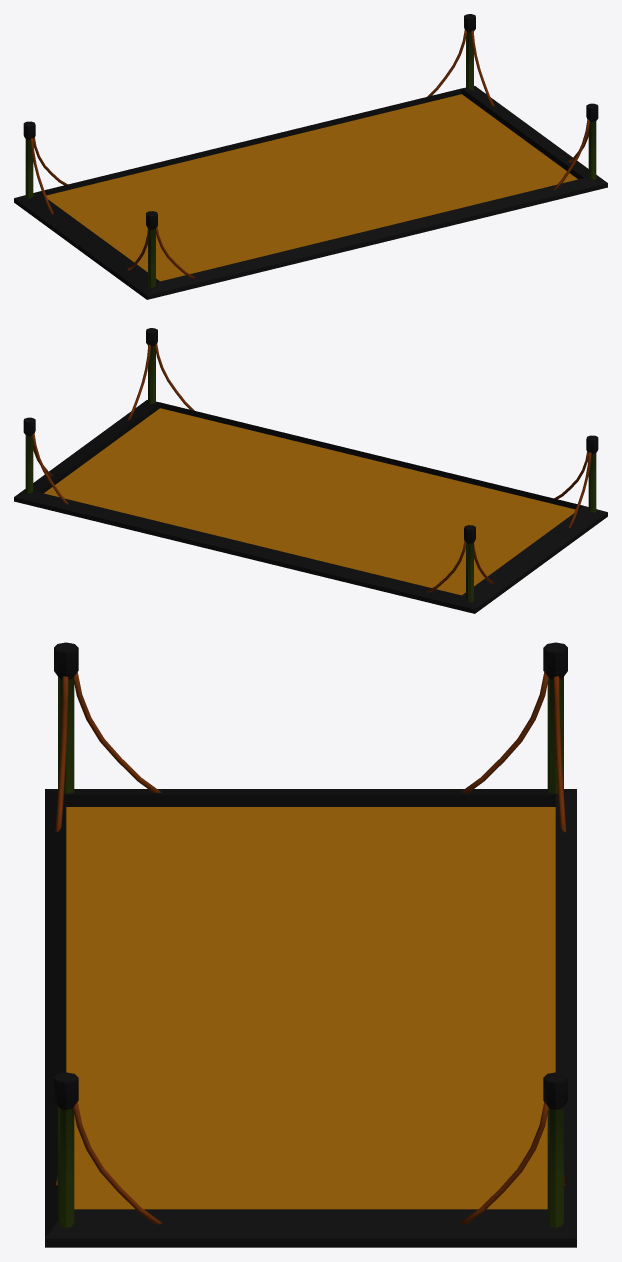
Rendered from PickUp_Area_v1.fbx.
3 views of the same model, one above another, from view 1: azimuth 30°, elevation 25°; view 2: azimuth 150°, elevation 25°; view 3: azimuth 270°, elevation 25° (orthographic). The views are drawn at different scales.
Visible parts, largest first — view 1: PickUp_AreaFloor, PickUp_Area_Base; view 2: PickUp_AreaFloor, PickUp_Area_Base; view 3: PickUp_AreaFloor, PickUp_Area_Base.
Part boxes in pixels (bbox=[...]): PickUp_AreaFloor: bbox=[46, 94, 577, 281]; PickUp_Area_Base: bbox=[14, 14, 607, 299]; PickUp_AreaFloor: bbox=[44, 408, 575, 595]; PickUp_Area_Base: bbox=[14, 328, 607, 613]; PickUp_AreaFloor: bbox=[66, 807, 555, 1209]; PickUp_Area_Base: bbox=[45, 642, 576, 1247].
Bounding box in the file's own units: 1304 × 217 × 652.
